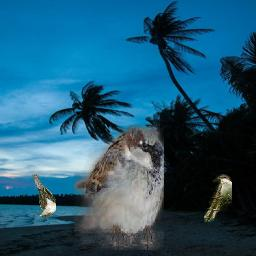Cuckoo: (204, 174, 232, 222), (32, 175, 56, 218)
Sparrow: (74, 124, 164, 250)
